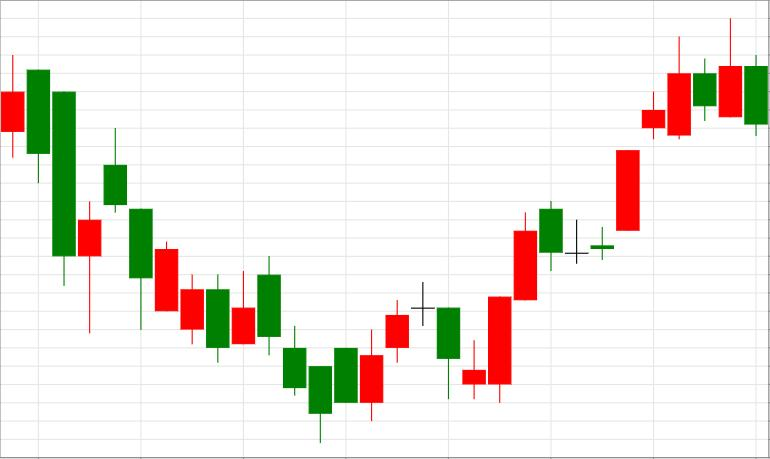evening_star_fall: (309, 281, 460, 442)
